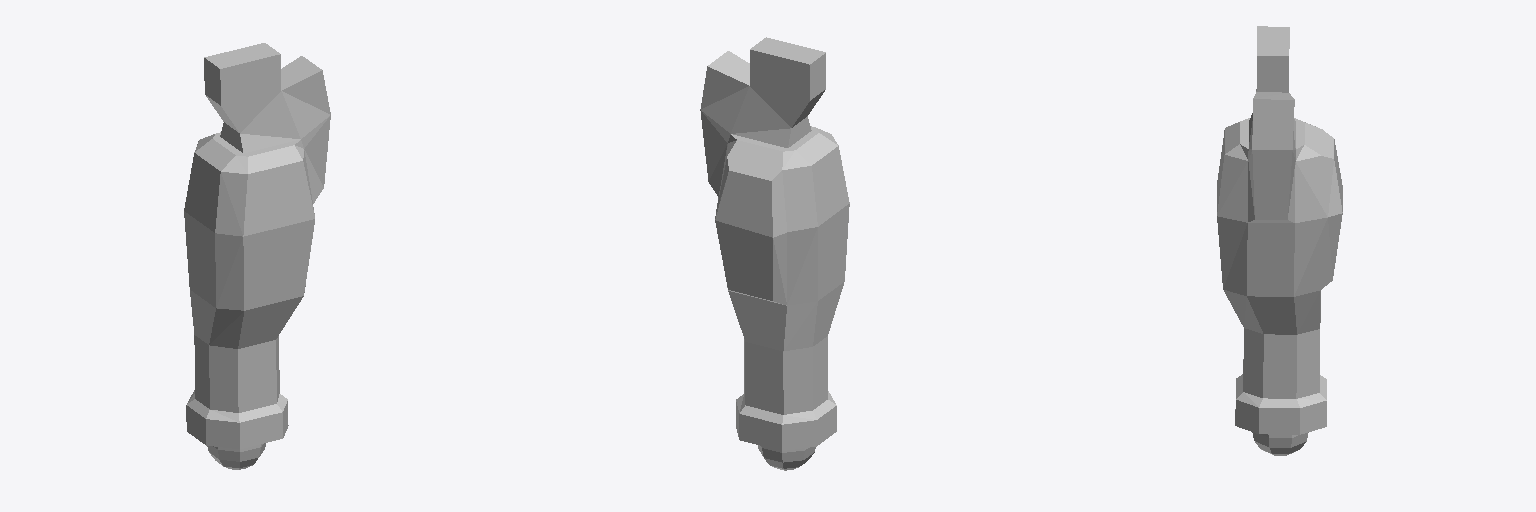
The model's file is only_forearm_wrist_v4.obj.
3 renders of one model, left to right at view 1: azimuth 30°, elevation 25°; view 2: azimuth 150°, elevation 25°; view 3: azimuth 270°, elevation 25°, orthographic.
Visible parts, largest first — view 1: only_forearm_wrist_v2:Robot2; view 2: only_forearm_wrist_v2:Robot2; view 3: only_forearm_wrist_v2:Robot2.
Boxes of the visible parts, box(x1,y1,x2,y2) form: only_forearm_wrist_v2:Robot2: box(184, 43, 330, 469); only_forearm_wrist_v2:Robot2: box(700, 37, 849, 470); only_forearm_wrist_v2:Robot2: box(1217, 26, 1342, 455).
Bounding box in the file's own units: 32.06 × 103 × 28.55.